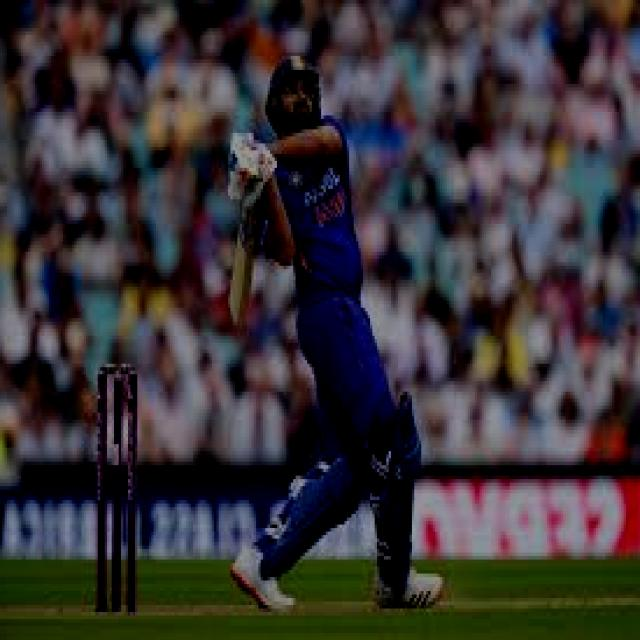toe: (220, 288, 252, 328)
